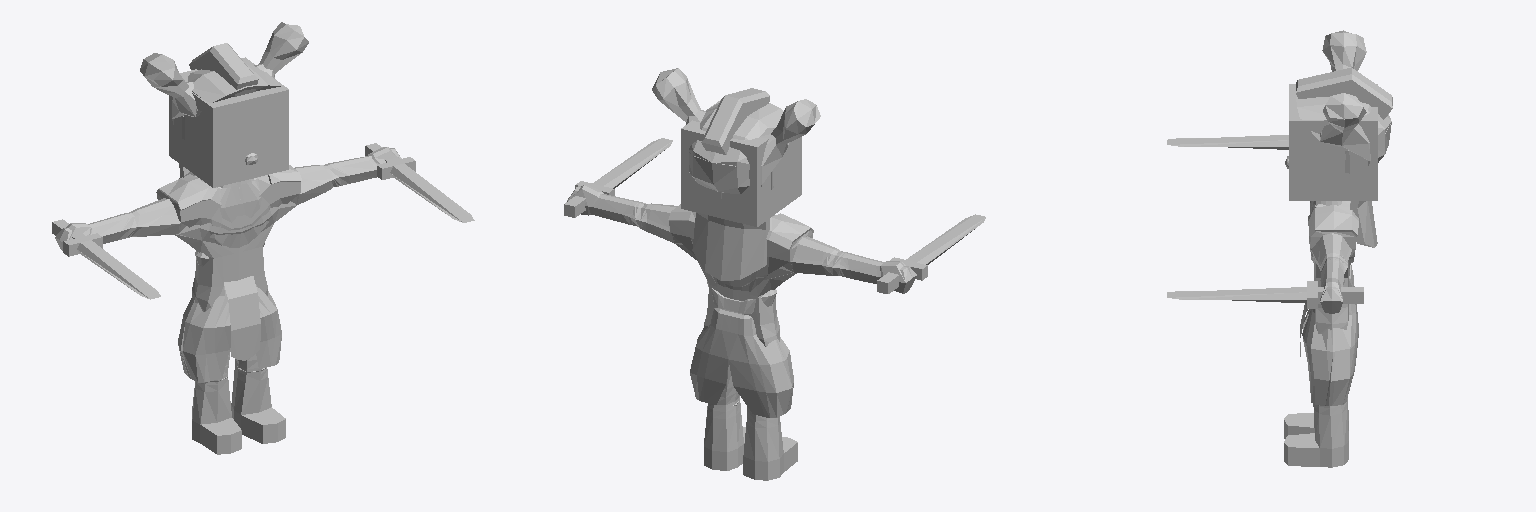
The model's file is dungeon_player.obj.
3 renders of one model, left to right at view 1: azimuth 30°, elevation 25°; view 2: azimuth 150°, elevation 25°; view 3: azimuth 270°, elevation 25°, orthographic.
Visible parts, largest first — view 1: PLACEHOLDER_TORSO_Cube.005, mail0_torso_Cube, PLACE_HOLDER_HEAD_Cube.001, hair_pigtails0_Cube.012, arms0_Cube.006, SwordMarker_R_Cube.002, SwordMarker_L_Cube.004, hair_mohawk_Cube.010, hair_short1_Cube.016; view 2: mail0_torso_Cube, PLACEHOLDER_TORSO_Cube.005, PLACE_HOLDER_HEAD_Cube.001, hair_pigtails0_Cube.012, hair_long0_Cube.017, arms0_Cube.006, hair_mohawk_Cube.010, SwordMarker_R_Cube.002, hair_short1_Cube.016, SwordMarker_L_Cube.004; view 3: PLACE_HOLDER_HEAD_Cube.001, mail0_torso_Cube, PLACEHOLDER_TORSO_Cube.005, hair_pigtails0_Cube.012, SwordMarker_L_Cube.004, hair_mohawk_Cube.010, arms0_Cube.006, SwordMarker_R_Cube.002, hair_short1_Cube.016, hair_long0_Cube.017.
Boxes of the visible parts, x1=… form: PLACEHOLDER_TORSO_Cube.005: x1=66, y1=147, x2=399, y2=454; mail0_torso_Cube: x1=156, y1=165, x2=301, y2=382; PLACE_HOLDER_HEAD_Cube.001: x1=169, y1=57, x2=288, y2=187; hair_pigtails0_Cube.012: x1=140, y1=22, x2=308, y2=124; arms0_Cube.006: x1=55, y1=148, x2=401, y2=254; SwordMarker_R_Cube.002: x1=52, y1=219, x2=160, y2=299; SwordMarker_L_Cube.004: x1=365, y1=143, x2=474, y2=222; hair_mohawk_Cube.010: x1=189, y1=43, x2=258, y2=96; hair_short1_Cube.016: x1=188, y1=64, x2=280, y2=116; mail0_torso_Cube: x1=668, y1=204, x2=813, y2=417; PLACEHOLDER_TORSO_Cube.005: x1=567, y1=185, x2=905, y2=480; PLACE_HOLDER_HEAD_Cube.001: x1=681, y1=100, x2=801, y2=226; hair_pigtails0_Cube.012: x1=652, y1=68, x2=820, y2=193; hair_long0_Cube.017: x1=692, y1=192, x2=769, y2=280; arms0_Cube.006: x1=568, y1=186, x2=916, y2=293; hair_mohawk_Cube.010: x1=701, y1=88, x2=769, y2=154; SwordMarker_R_Cube.002: x1=877, y1=214, x2=985, y2=293; hair_short1_Cube.016: x1=692, y1=103, x2=788, y2=162; SwordMarker_L_Cube.004: x1=564, y1=138, x2=672, y2=217; PLACE_HOLDER_HEAD_Cube.001: x1=1289, y1=84, x2=1377, y2=200; mail0_torso_Cube: x1=1300, y1=201, x2=1358, y2=405; PLACEHOLDER_TORSO_Cube.005: x1=1284, y1=201, x2=1351, y2=467; hair_pigtails0_Cube.012: x1=1320, y1=30, x2=1391, y2=165; SwordMarker_L_Cube.004: x1=1167, y1=281, x2=1363, y2=308; hair_mohawk_Cube.010: x1=1296, y1=67, x2=1392, y2=119; arms0_Cube.006: x1=1317, y1=233, x2=1348, y2=313; SwordMarker_R_Cube.002: x1=1167, y1=135, x2=1288, y2=149; hair_short1_Cube.016: x1=1296, y1=95, x2=1391, y2=140; hair_long0_Cube.017: x1=1350, y1=201, x2=1377, y2=247.
Size of the model in its own units: 17.41 by 18.55 by 9.82.